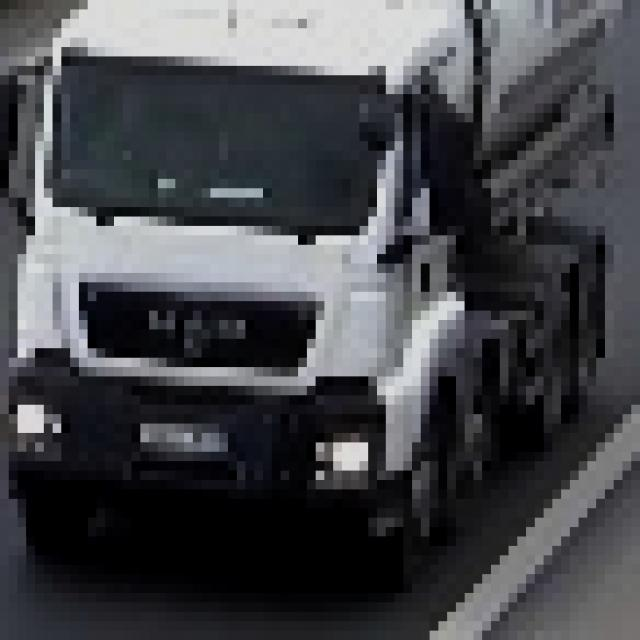truck: (1, 1, 632, 566)
